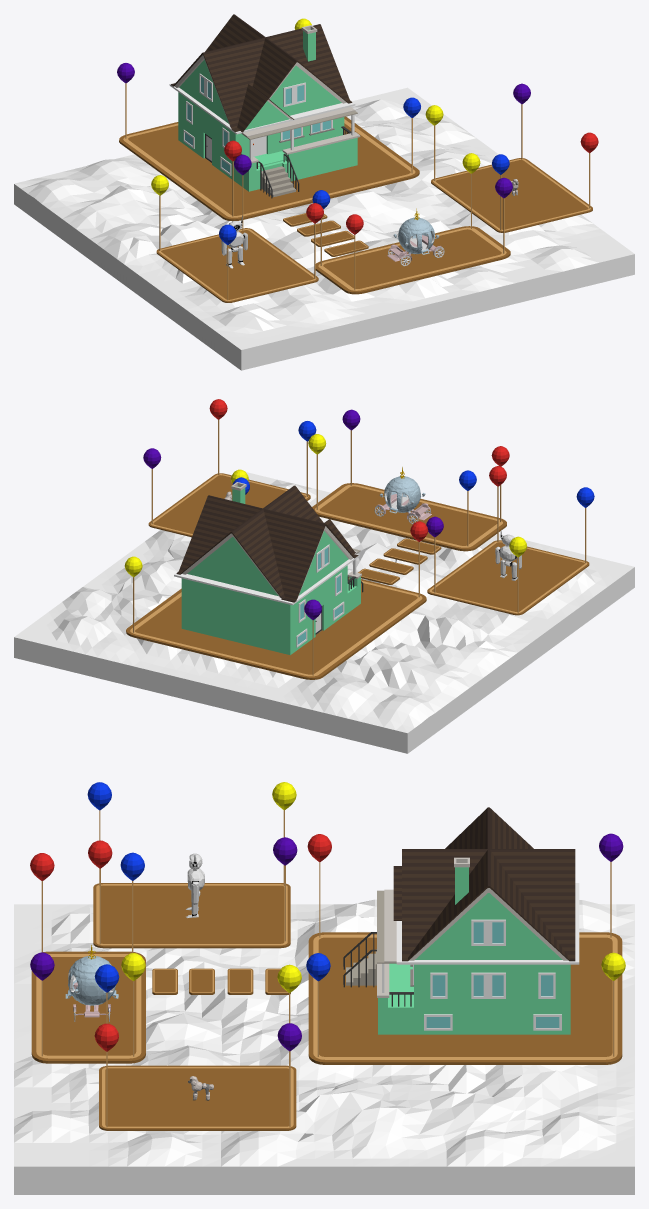
3 renders of one model, top to bottom at view 1: azimuth 30°, elevation 25°; view 2: azimuth 150°, elevation 25°; view 3: azimuth 270°, elevation 25°, orthographic. The views are drawn at different scales.
Parts seen in each view (by area): view 1: Cube.013, Cube.352, VEHICLES_FANTASY_CARRIAGE, OBJRANDOM_PLATZEEBOT; view 2: Cube.013, Cube.352, VEHICLES_FANTASY_CARRIAGE, OBJRANDOM_PLATZEEBOT; view 3: Cube.013, Cube.352, VEHICLES_FANTASY_CARRIAGE, OBJRANDOM_PLATZEEBOT.
Part boxes in pixels (<box>): Cube.013: <box>14,18,634,370</box>; Cube.352: <box>169,14,360,198</box>; VEHICLES_FANTASY_CARRIAGE: <box>387,208,444,266</box>; OBJRANDOM_PLATZEEBOT: <box>221,216,247,268</box>; Cube.013: <box>14,399,634,753</box>; Cube.352: <box>174,482,363,655</box>; VEHICLES_FANTASY_CARRIAGE: <box>374,467,431,524</box>; OBJRANDOM_PLATZEEBOT: <box>495,530,521,580</box>; Cube.013: <box>14,782,634,1194</box>; Cube.352: <box>343,807,579,1034</box>; VEHICLES_FANTASY_CARRIAGE: <box>65,945,118,1021</box>; OBJRANDOM_PLATZEEBOT: <box>186,853,204,918</box>.
Bounding box in the file's own units: 4000 × 1840 × 4000.
Materials: 30 (1 with a texture image).
